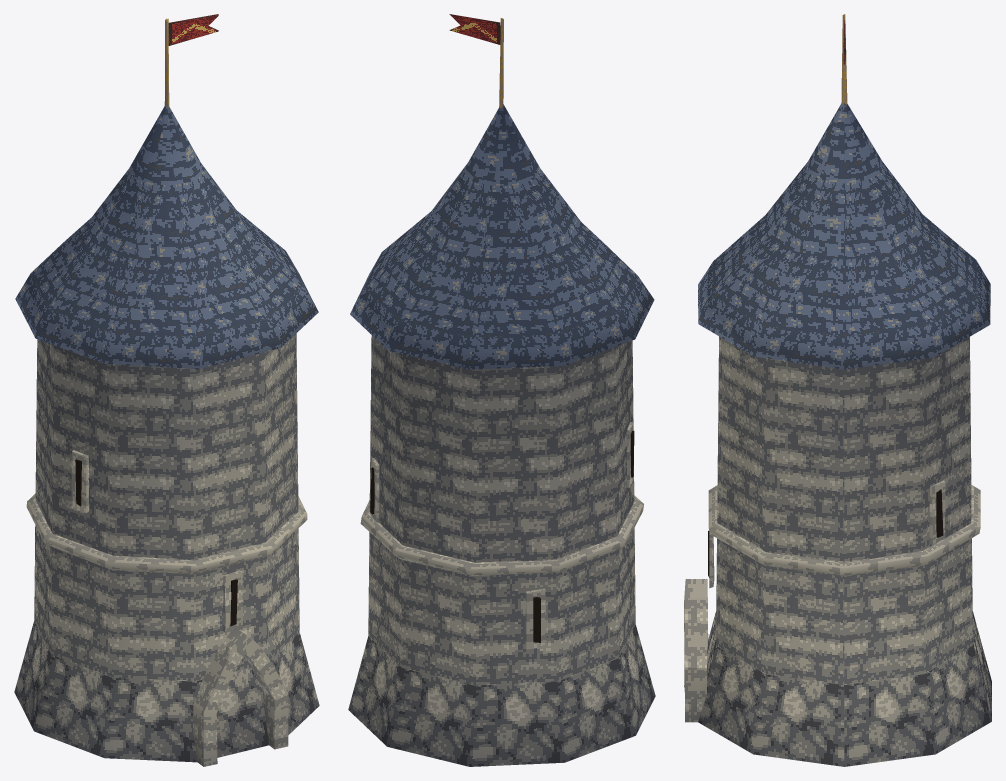
File: cst.tower_round__door.glb
The picture shows the model from 3 angles, left to right: view 1: azimuth 30°, elevation 25°; view 2: azimuth 150°, elevation 25°; view 3: azimuth 270°, elevation 25°; orthographic projection.
Parts seen in each view (by area): view 1: kit_drum, kit_top, kit_detail; view 2: kit_drum, kit_top, kit_detail; view 3: kit_drum, kit_top, kit_detail.
Part boxes in pixels (bbox=[...]): kit_drum: bbox=[14, 333, 319, 762]; kit_top: bbox=[15, 104, 318, 369]; kit_detail: bbox=[26, 14, 307, 766]; kit_drum: bbox=[348, 335, 655, 766]; kit_top: bbox=[350, 104, 654, 369]; kit_detail: bbox=[360, 14, 643, 649]; kit_drum: bbox=[698, 336, 991, 766]; kit_top: bbox=[698, 103, 990, 369]; kit_detail: bbox=[684, 14, 980, 722].
Size of the model in its own units: 6.9 by 16.87 by 6.85.
7 materials, 7 textured.
